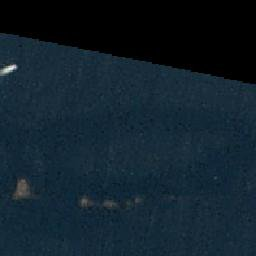debris: (12, 177, 33, 200), (123, 195, 145, 210), (80, 196, 93, 209), (102, 199, 116, 209)
